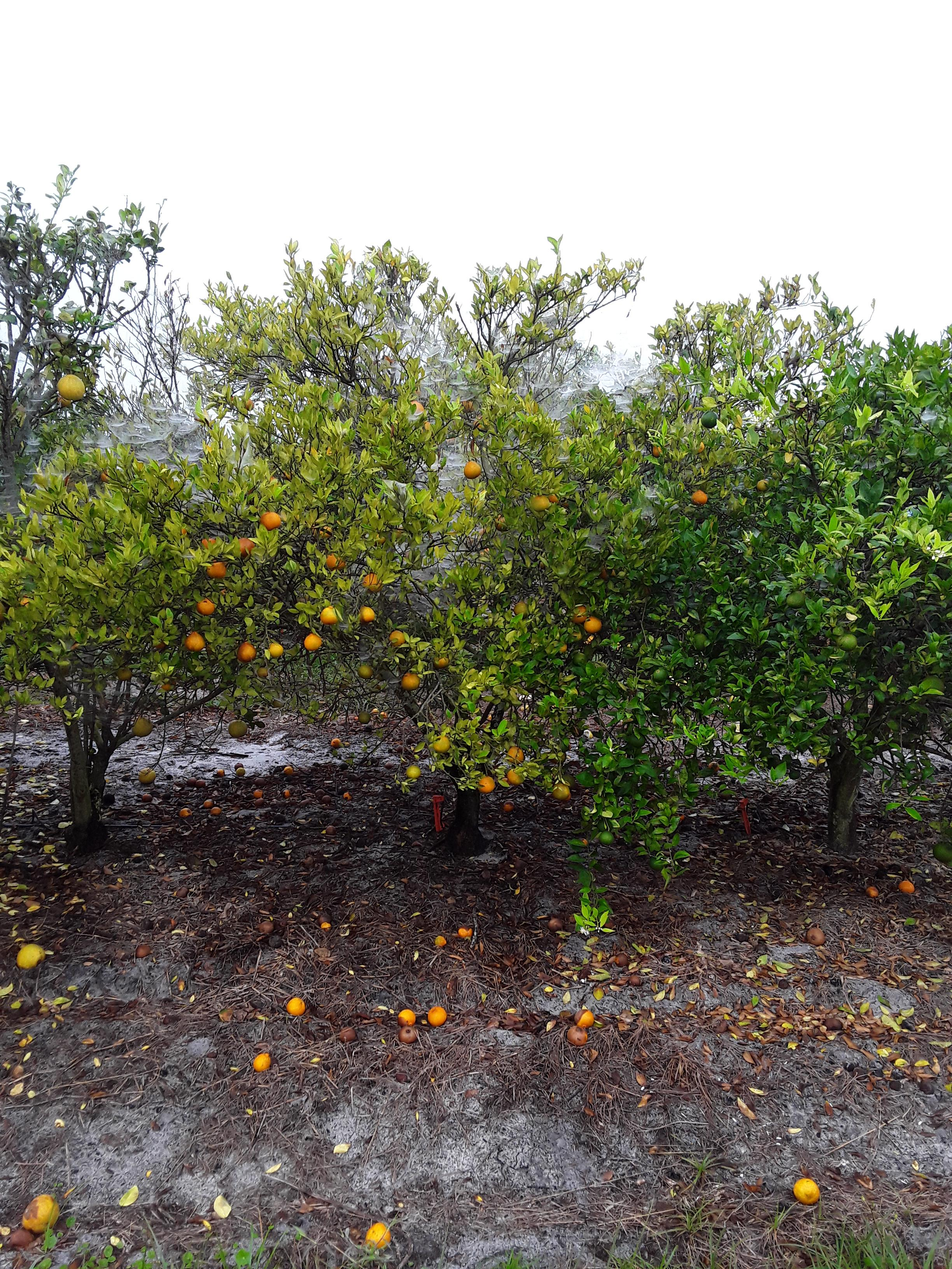fruit_on_ground: (57, 368, 84, 403), (50, 332, 82, 360), (0, 227, 22, 261), (920, 675, 947, 698), (838, 626, 860, 654), (184, 629, 208, 652), (406, 397, 428, 421), (360, 572, 385, 593), (195, 596, 220, 617), (259, 509, 282, 531), (227, 716, 249, 739), (325, 551, 349, 572), (319, 603, 339, 628), (234, 538, 254, 562), (18, 596, 38, 620), (567, 604, 589, 625), (785, 589, 808, 609), (584, 612, 604, 635), (432, 648, 451, 672), (311, 524, 336, 542), (690, 632, 711, 653), (932, 840, 952, 862), (413, 421, 437, 439), (132, 713, 150, 737), (390, 525, 412, 544), (462, 458, 480, 481), (505, 769, 528, 787), (207, 559, 227, 579), (476, 774, 496, 794), (700, 409, 719, 430), (494, 514, 515, 533), (387, 629, 408, 648), (401, 671, 420, 692), (236, 644, 254, 666), (436, 735, 454, 757), (506, 745, 525, 765), (531, 493, 549, 513), (358, 603, 375, 624), (304, 631, 321, 652), (267, 473, 282, 496), (370, 527, 388, 546), (599, 564, 618, 582), (552, 781, 570, 800), (691, 489, 708, 509), (201, 535, 219, 553), (357, 662, 375, 680), (652, 665, 669, 684), (281, 464, 297, 484), (514, 599, 530, 619), (158, 676, 178, 692), (100, 469, 118, 486), (572, 651, 590, 668), (549, 748, 567, 765), (765, 754, 782, 772), (560, 772, 577, 790), (754, 475, 770, 494), (409, 766, 424, 786), (0, 599, 10, 628), (871, 388, 889, 404), (116, 666, 134, 682), (596, 818, 614, 834), (461, 394, 475, 414), (52, 395, 73, 408), (244, 485, 260, 502), (268, 647, 284, 664), (630, 732, 647, 748), (600, 830, 617, 846), (405, 762, 420, 780), (648, 855, 667, 869), (568, 628, 585, 643), (269, 641, 284, 658), (546, 490, 562, 505), (151, 636, 168, 650), (177, 525, 192, 540), (651, 445, 666, 459), (570, 724, 585, 738), (242, 397, 255, 413), (756, 745, 772, 758), (693, 439, 706, 454), (555, 639, 568, 654), (359, 710, 372, 725), (254, 666, 270, 678), (272, 697, 286, 710), (563, 498, 578, 510), (612, 455, 625, 467), (790, 768, 801, 780), (225, 392, 236, 403), (565, 792, 573, 802)
fruit_on_tree: (21, 1190, 61, 1235), (14, 943, 47, 972), (792, 1178, 819, 1210), (366, 1222, 393, 1253), (7, 1225, 38, 1251), (569, 1015, 590, 1050), (572, 1005, 593, 1033), (427, 1005, 450, 1027), (804, 926, 827, 947), (288, 995, 306, 1018), (397, 1025, 420, 1043), (252, 1052, 271, 1073), (397, 1008, 416, 1028), (822, 1017, 848, 1031), (919, 1080, 938, 1099), (339, 1026, 357, 1044), (897, 879, 916, 895), (457, 924, 473, 941), (614, 951, 630, 968), (547, 918, 565, 933), (887, 1077, 905, 1092), (141, 767, 156, 784), (258, 920, 276, 934), (136, 944, 154, 958), (851, 1066, 869, 1080), (501, 798, 516, 814), (602, 917, 618, 932), (140, 919, 156, 934), (865, 886, 882, 900), (102, 792, 116, 808), (175, 884, 189, 900), (317, 913, 331, 929), (434, 935, 449, 949), (268, 935, 284, 948), (206, 799, 219, 814), (178, 802, 191, 817), (215, 765, 229, 778), (628, 974, 640, 989), (708, 760, 721, 773), (284, 765, 296, 778), (673, 811, 686, 823), (273, 814, 287, 825), (341, 791, 354, 802), (142, 793, 155, 804), (325, 825, 337, 836), (303, 856, 315, 867), (330, 738, 343, 748), (234, 767, 245, 778), (186, 776, 197, 787), (322, 794, 333, 805), (233, 761, 245, 771), (338, 762, 350, 772), (254, 777, 266, 787), (253, 789, 265, 799), (254, 799, 266, 809), (195, 780, 208, 789), (314, 788, 327, 797), (578, 837, 588, 848), (396, 745, 406, 755), (384, 761, 394, 771), (348, 772, 359, 781), (406, 737, 416, 746), (281, 790, 292, 798)
